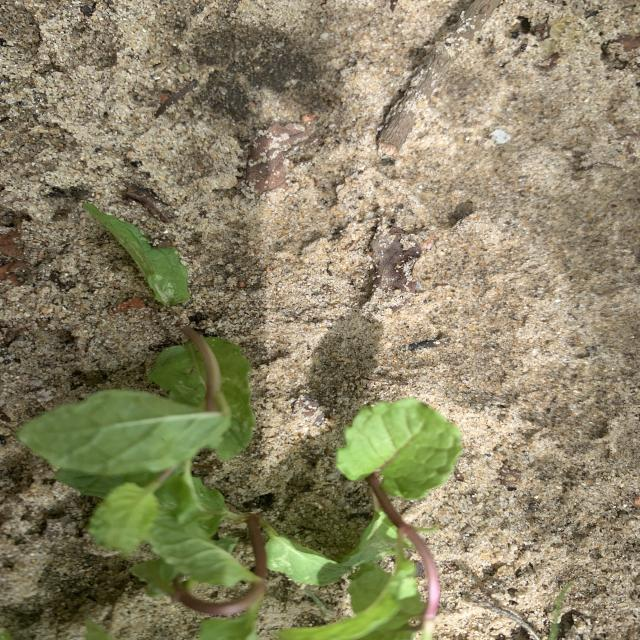crop: (19, 327, 266, 640), (261, 399, 462, 640), (83, 204, 189, 305), (86, 619, 112, 639)
weed: (547, 582, 573, 639)
